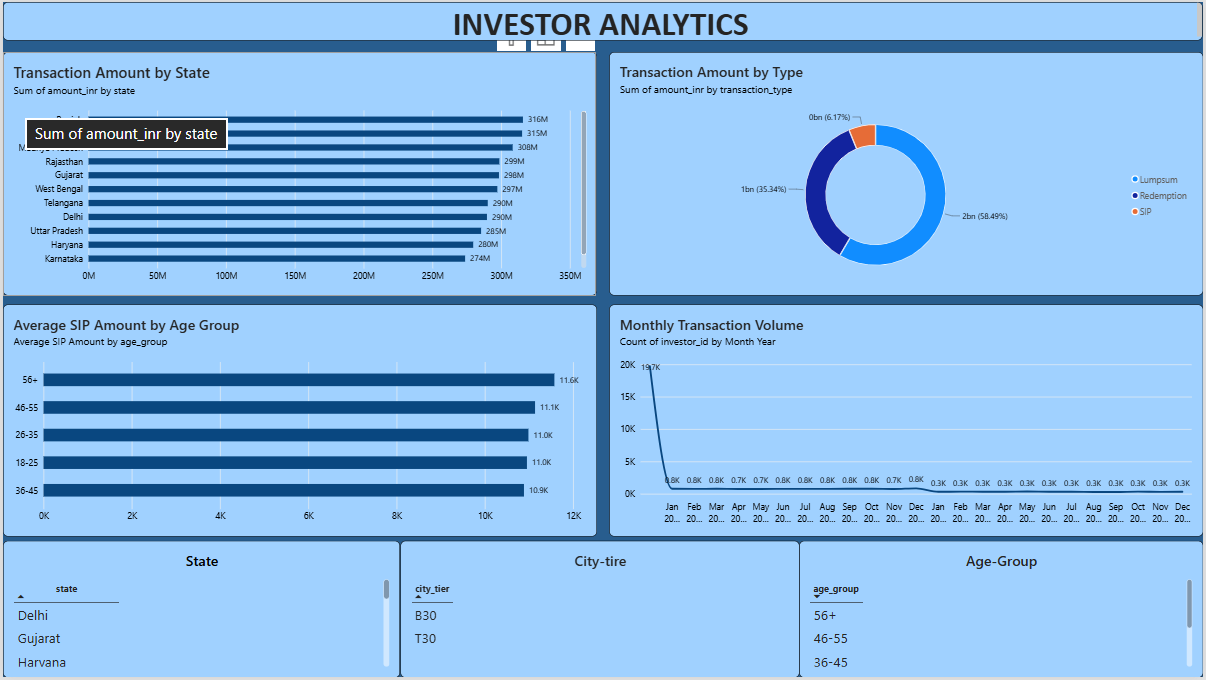

The page's visual inventory and layout, read from the dashboard file:
{"tool":"powerbi","page":{"name":"Investor Analysis","canvas":[1920,1080],"ordinal":2},"visuals":[{"type":"clusteredBarChart","title":"Transaction Amount by State","fields":{"Category":["08_investor_transactions.state"],"Y":["Sum(08_investor_transactions.amount_inr)"]},"box":[0,80.1,950.4,389.8],"z":0},{"type":"textbox","box":[0,0,1919.5,61.4],"z":1000},{"type":"donutChart","title":"Transaction Amount by Type","fields":{"Category":["08_investor_transactions.transaction_type"],"Y":["Sum(08_investor_transactions.amount_inr)"]},"box":[969.1,80.1,950.4,389.8],"z":2000},{"type":"clusteredBarChart","title":"Average SIP Amount by Age Group","fields":{"Category":["08_investor_transactions.age_group"],"Y":["08_investor_transactions.Average SIP Amount"]},"box":[0,483.2,950.4,371.1],"z":3000},{"type":"lineChart","title":"Monthly Transaction Volume","fields":{"Category":["08_investor_transactions.Month Year"],"Y":["CountNonNull(08_investor_transactions.investor_id)"]},"box":[969.1,483.2,950.4,371.1],"z":4000},{"type":"tableEx","title":"City-tire","fields":{"Values":["08_investor_transactions.city_tier"]},"box":[635.4,862.3,638.1,218.9],"z":5000},{"type":"tableEx","title":"State","fields":{"Values":["08_investor_transactions.state"]},"box":[0,862.3,635.4,218.9],"z":6000},{"type":"tableEx","title":"Age-Group","fields":{"Values":["08_investor_transactions.age_group"]},"box":[1273.4,862.3,646.1,218.9],"z":7000}]}

Visuals, with their boxes in screenshot pixels (x1, y1, x2, y2), scaled from the page's 1920x1080 canvas onto the 1206x680 screenshot:
"Transaction Amount by State" clusteredBarChart: crop(0, 50, 597, 296)
textbox: crop(0, 0, 1205, 39)
"Transaction Amount by Type" donutChart: crop(609, 50, 1205, 296)
"Average SIP Amount by Age Group" clusteredBarChart: crop(0, 304, 597, 538)
"Monthly Transaction Volume" lineChart: crop(609, 304, 1205, 538)
"City-tire" tableEx: crop(399, 543, 800, 679)
"State" tableEx: crop(0, 543, 399, 679)
"Age-Group" tableEx: crop(800, 543, 1205, 679)
